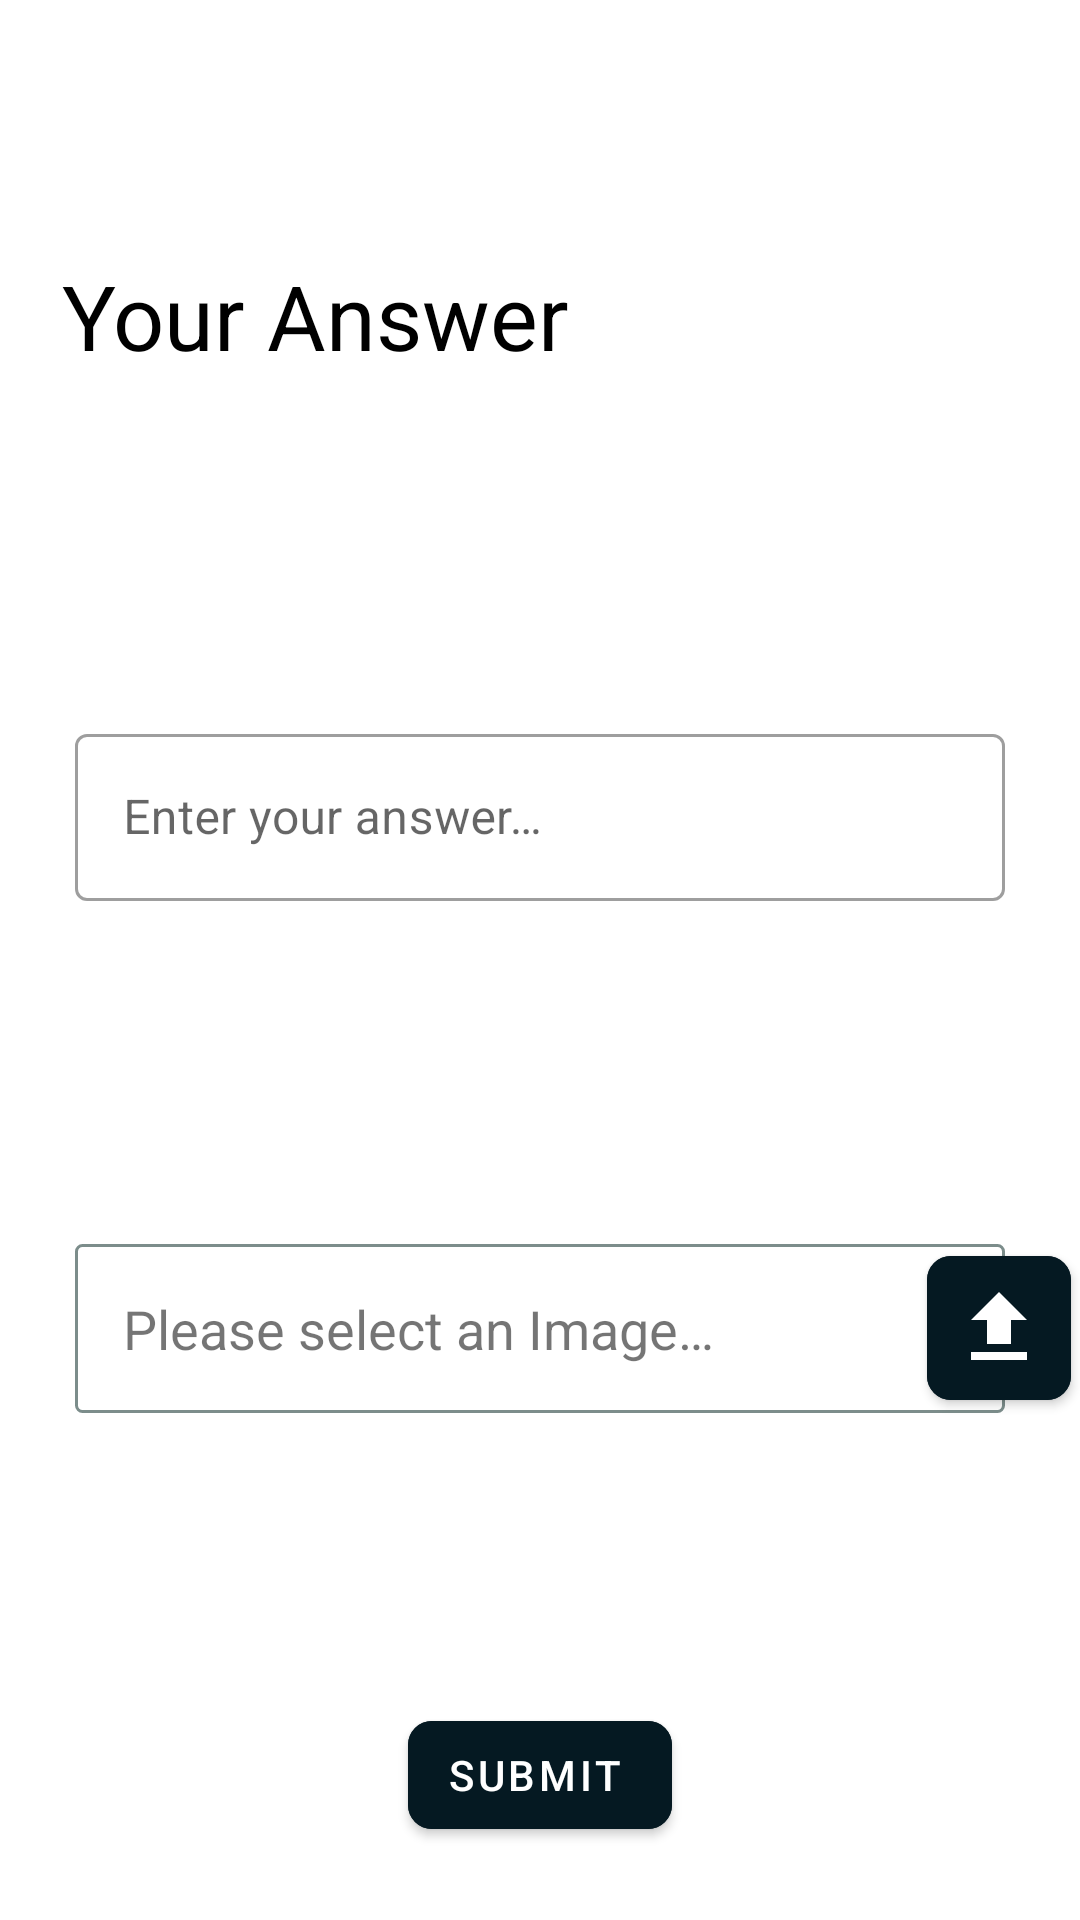

Point at icon controls on the screen. Image size 1080 × 1920, points as point (x, y).
file upload: point (999, 1328)
